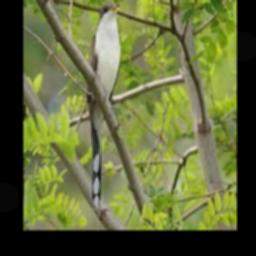Cuckoo: (87, 3, 123, 210)
